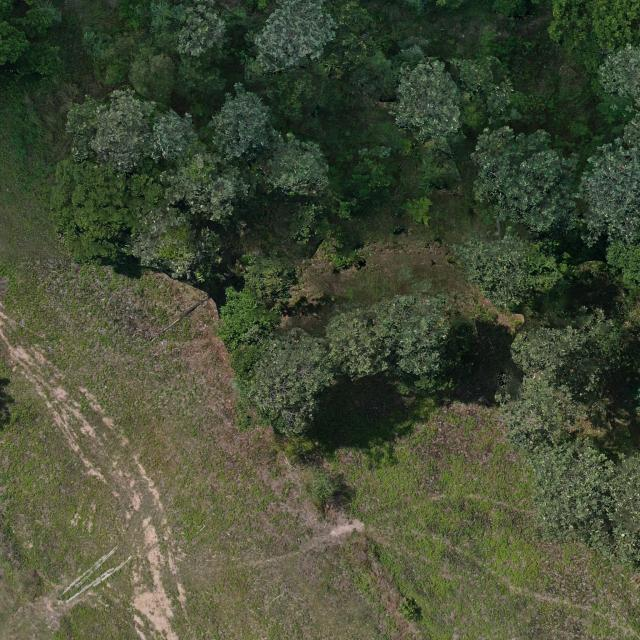Tree: (56, 0, 640, 295), (507, 304, 628, 446), (322, 292, 472, 404), (524, 444, 640, 574), (49, 152, 167, 266), (467, 124, 582, 236), (64, 84, 204, 175), (244, 323, 342, 445), (446, 232, 571, 307), (578, 112, 640, 249), (128, 203, 224, 279), (158, 148, 254, 224), (252, 0, 338, 76), (388, 61, 462, 146), (251, 126, 329, 200), (205, 80, 275, 161)
